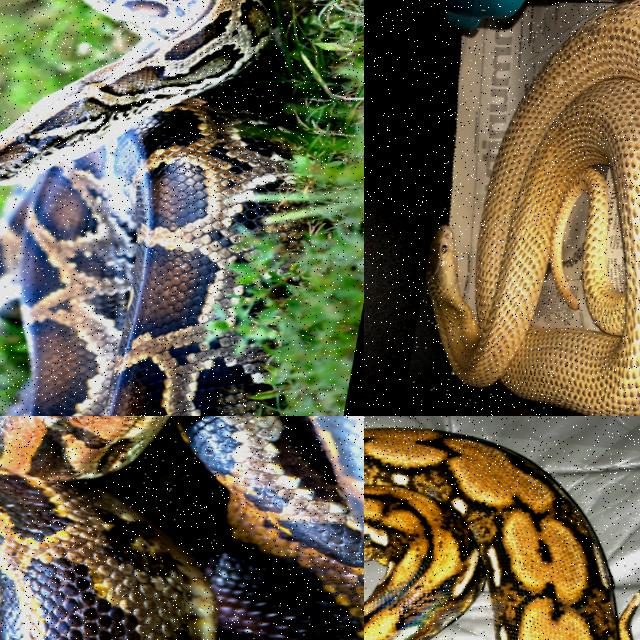Malayopython reticulatus: (364, 428, 639, 639)
Naja kaouthia: (427, 0, 639, 415)
Python bivittatus: (0, 0, 302, 415), (0, 416, 363, 639)
